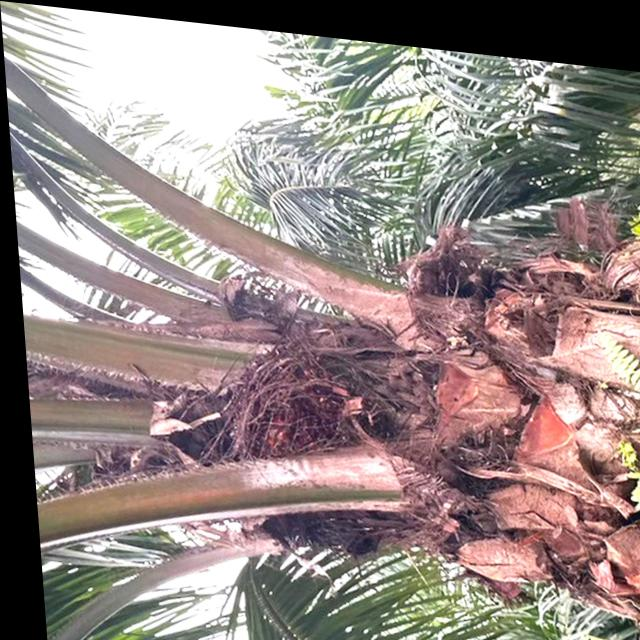ripe: (209, 328, 363, 470)
